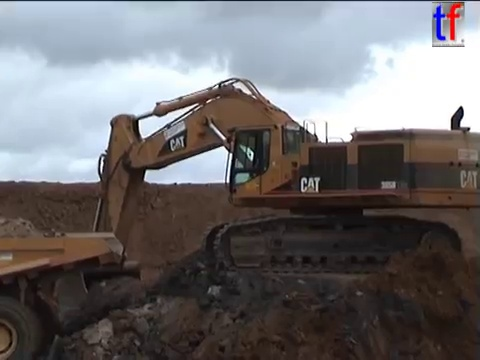excavator: (49, 74, 480, 334)
truck: (1, 227, 127, 360)
